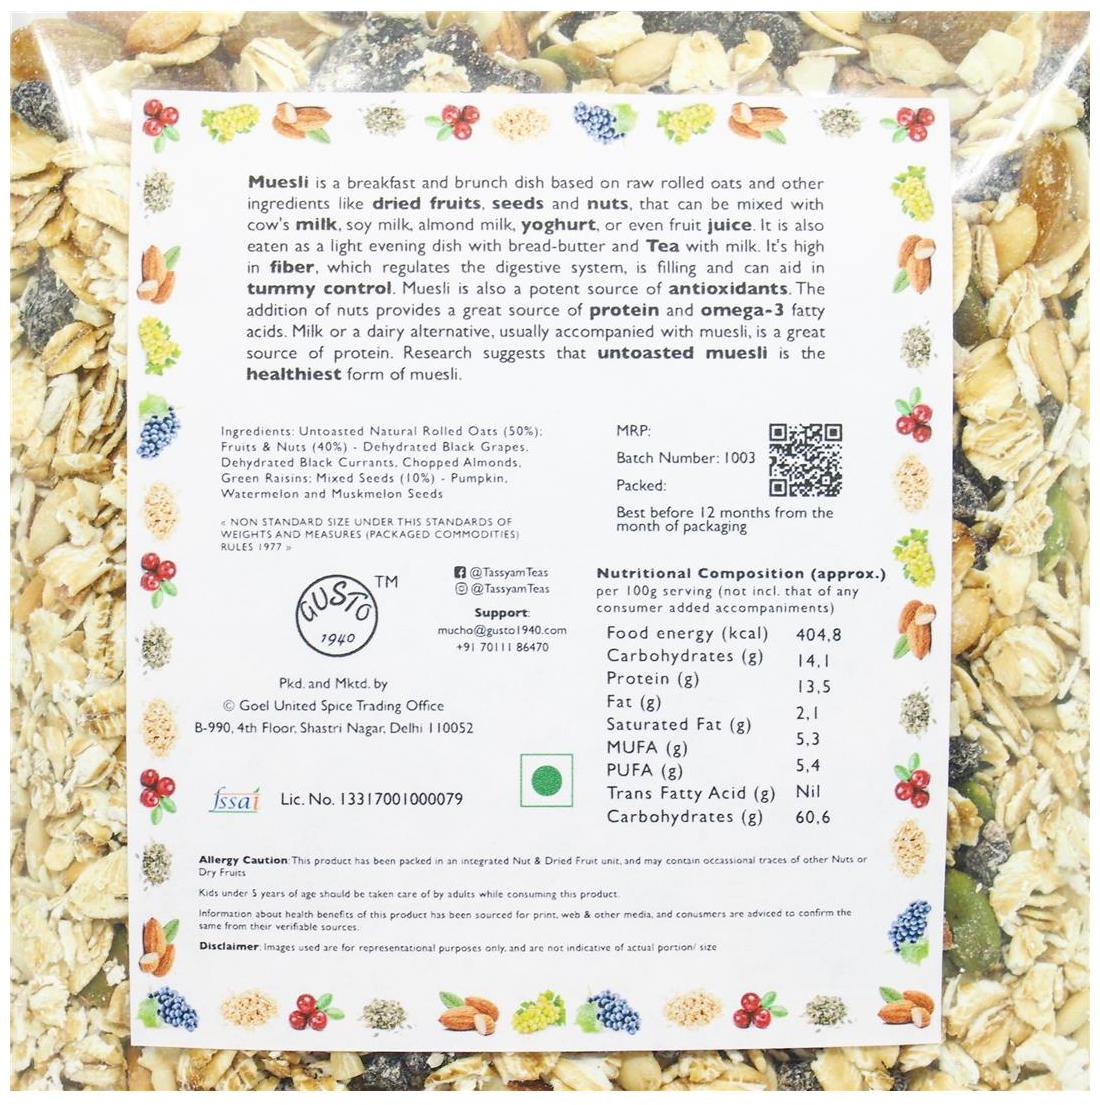fssai: (205, 781, 265, 815)
